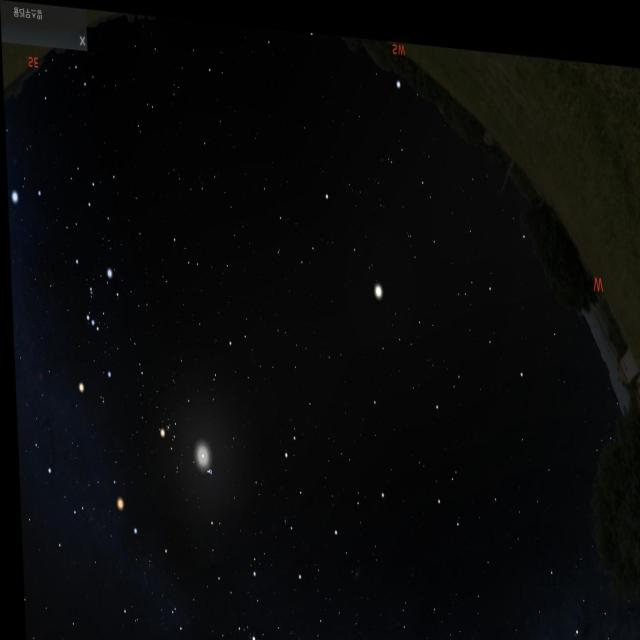canis_major: (3, 105, 42, 222)
gemini: (16, 492, 99, 640)
moon: (183, 437, 208, 470)
orion: (60, 238, 124, 414)
pleiades: (196, 455, 212, 479)
taurus: (148, 388, 225, 498)
